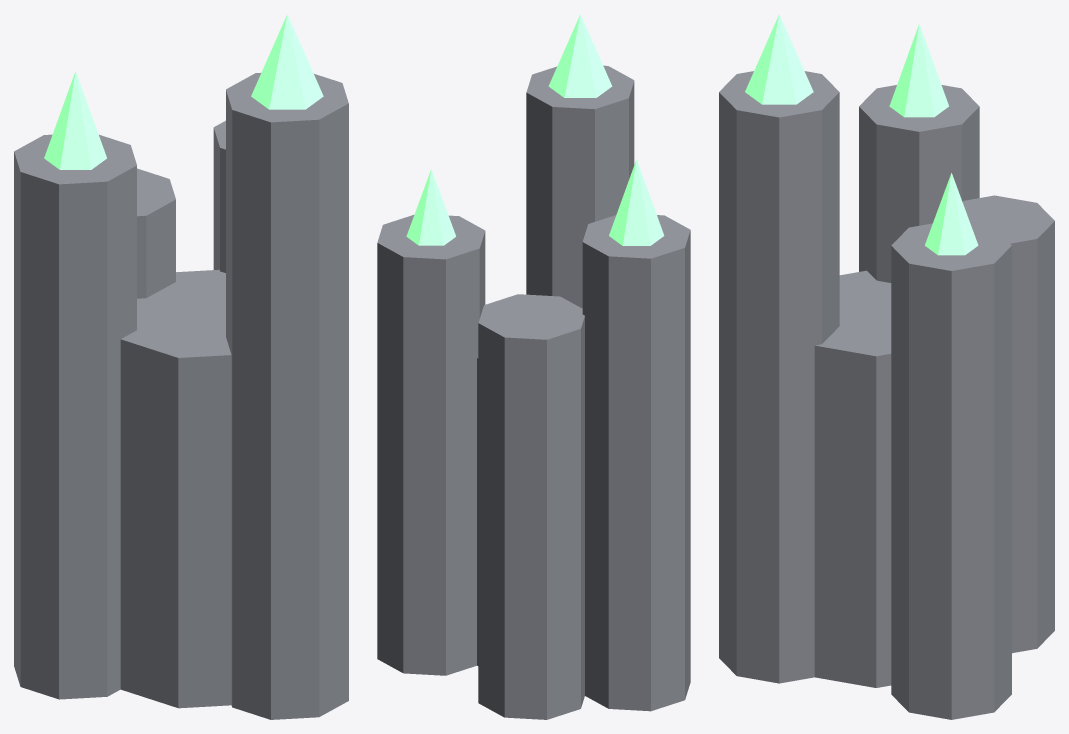
File: OreTier5.fbx
3 renders of one model, left to right at view 1: azimuth 30°, elevation 25°; view 2: azimuth 150°, elevation 25°; view 3: azimuth 270°, elevation 25°, orthographic. The views are drawn at different scales.
Parts seen in each view (by area): view 1: Pillar1, Pillar0, Pillar4, Pillar3, Green3, Green1, Pillar2; view 2: Pillar0, Pillar2, Pillar3, Pillar1, Green3, Green1, Green2, Pillar4; view 3: Pillar1, Pillar2, Pillar4, Pillar3, Pillar0, Green3, Green1, Green2.
Boxes of the visible parts, left/top/right/bottom form: Pillar1: left=226, top=73, right=348, bottom=719; Pillar0: left=14, top=134, right=136, bottom=699; Pillar4: left=120, top=269, right=231, bottom=708; Pillar3: left=137, top=168, right=175, bottom=298; Green3: left=251, top=14, right=323, bottom=109; Green1: left=44, top=71, right=106, bottom=169; Pillar2: left=213, top=120, right=225, bottom=272; Pillar0: left=582, top=215, right=690, bottom=711; Pillar2: left=377, top=215, right=485, bottom=675; Pillar3: left=478, top=294, right=584, bottom=719; Pillar1: left=526, top=65, right=634, bottom=308; Green3: left=548, top=14, right=612, bottom=97; Green1: left=609, top=159, right=664, bottom=245; Green2: left=406, top=169, right=455, bottom=245; Pillar4: left=477, top=357, right=478, bottom=665; Pillar1: left=719, top=71, right=839, bottom=683; Pillar2: left=891, top=223, right=1011, bottom=719; Pillar4: left=814, top=270, right=891, bottom=687; Pillar3: left=962, top=195, right=1054, bottom=653; Pillar0: left=859, top=85, right=979, bottom=282; Green3: left=745, top=14, right=813, bottom=104; Green1: left=889, top=24, right=948, bottom=117; Green2: left=925, top=173, right=978, bottom=255.
Bounding box in the file's own units: 1.66 × 3.3 × 1.56.
